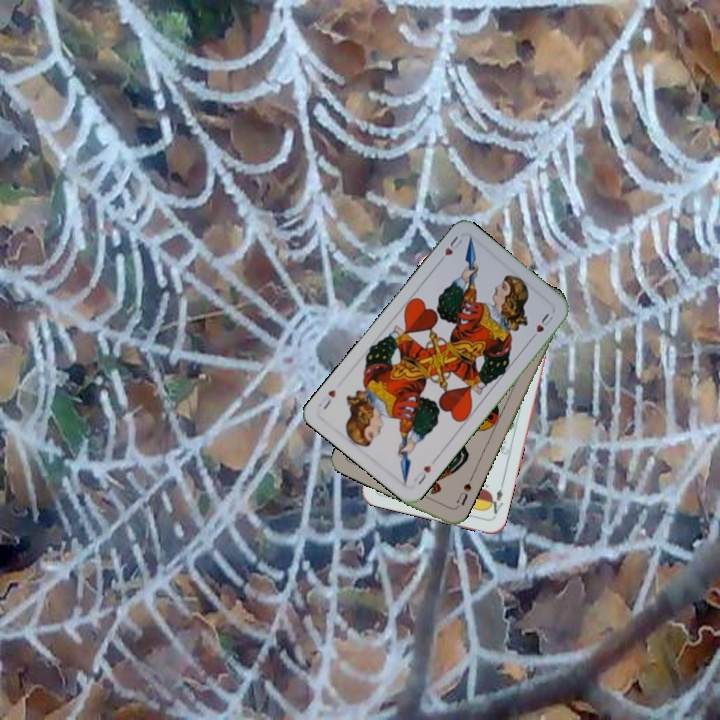EA: (484, 479, 506, 516)
HU: (434, 231, 465, 266), (409, 461, 434, 487)
SU: (452, 479, 474, 508)
